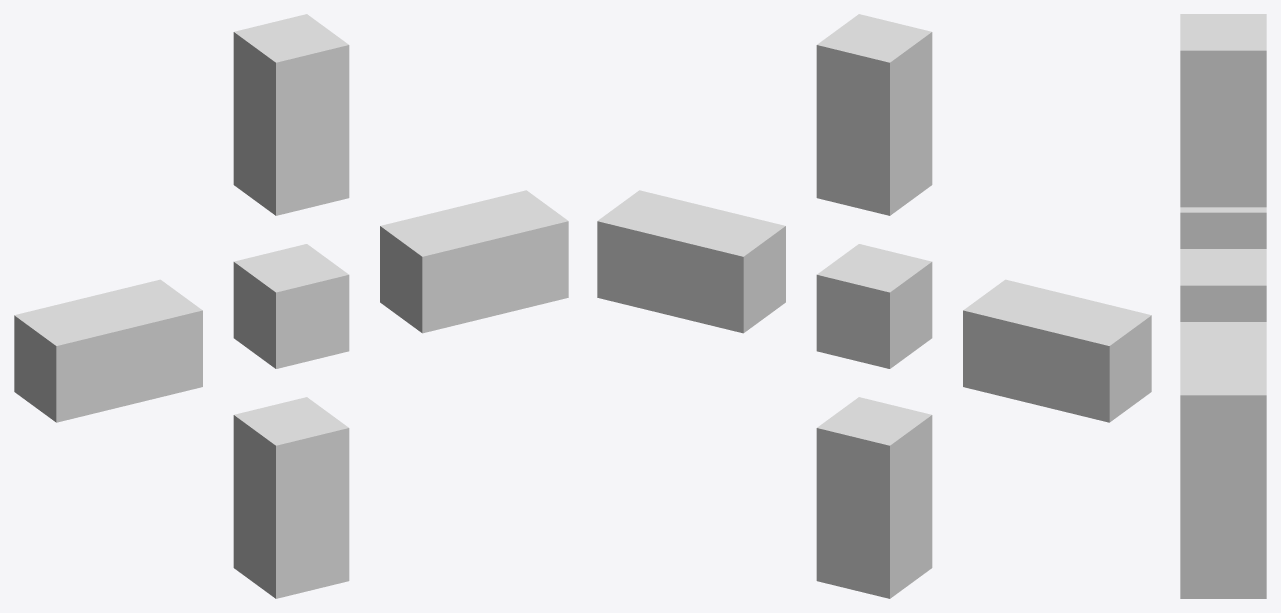
Rendered from mira.obj.
3 renders of one model, left to right at view 1: azimuth 30°, elevation 25°; view 2: azimuth 150°, elevation 25°; view 3: azimuth 270°, elevation 25°, orthographic. The views are drawn at different scales.
Bounding box in the file's own units: 0.7 × 0.7 × 0.1.
1 material, 1 textured.
